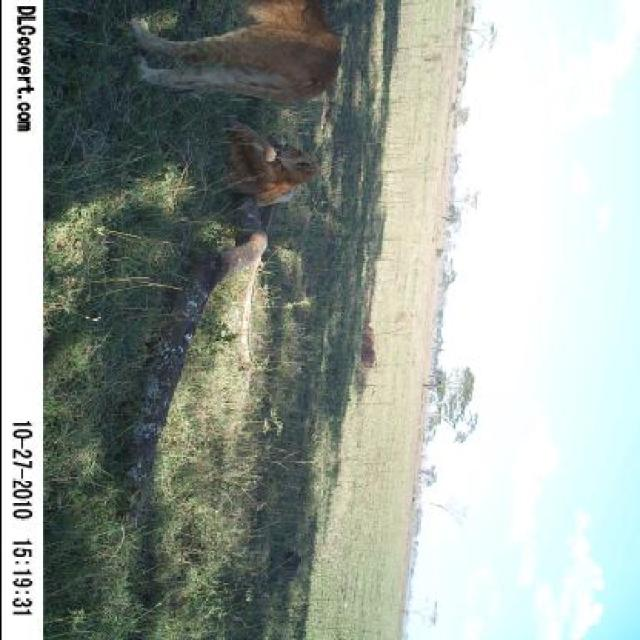Lion: (108, 3, 360, 105), (180, 122, 318, 223)
